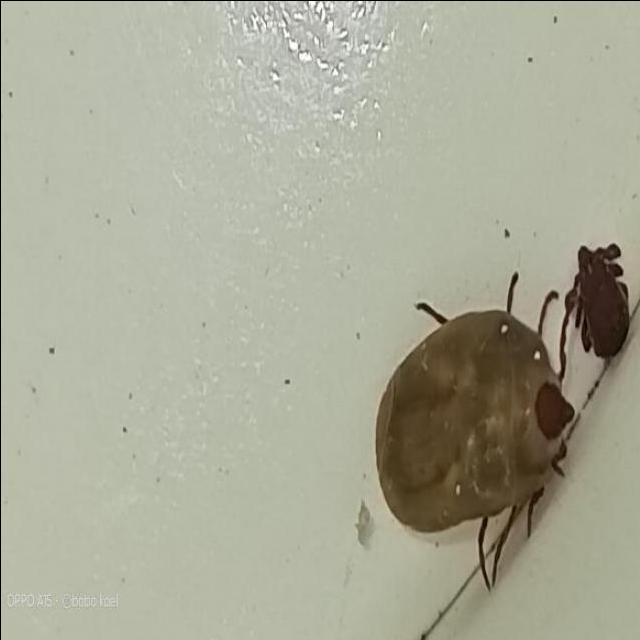Rhipicephalus Sanguineus-F-Fed: (373, 305, 576, 588)
Rhipicephalus Sanguineus-M: (563, 243, 633, 364)
